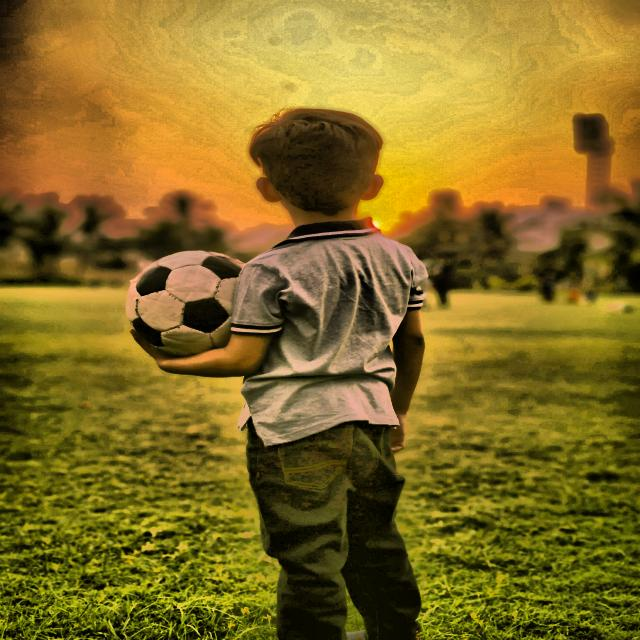Human: (151, 83, 505, 640)
